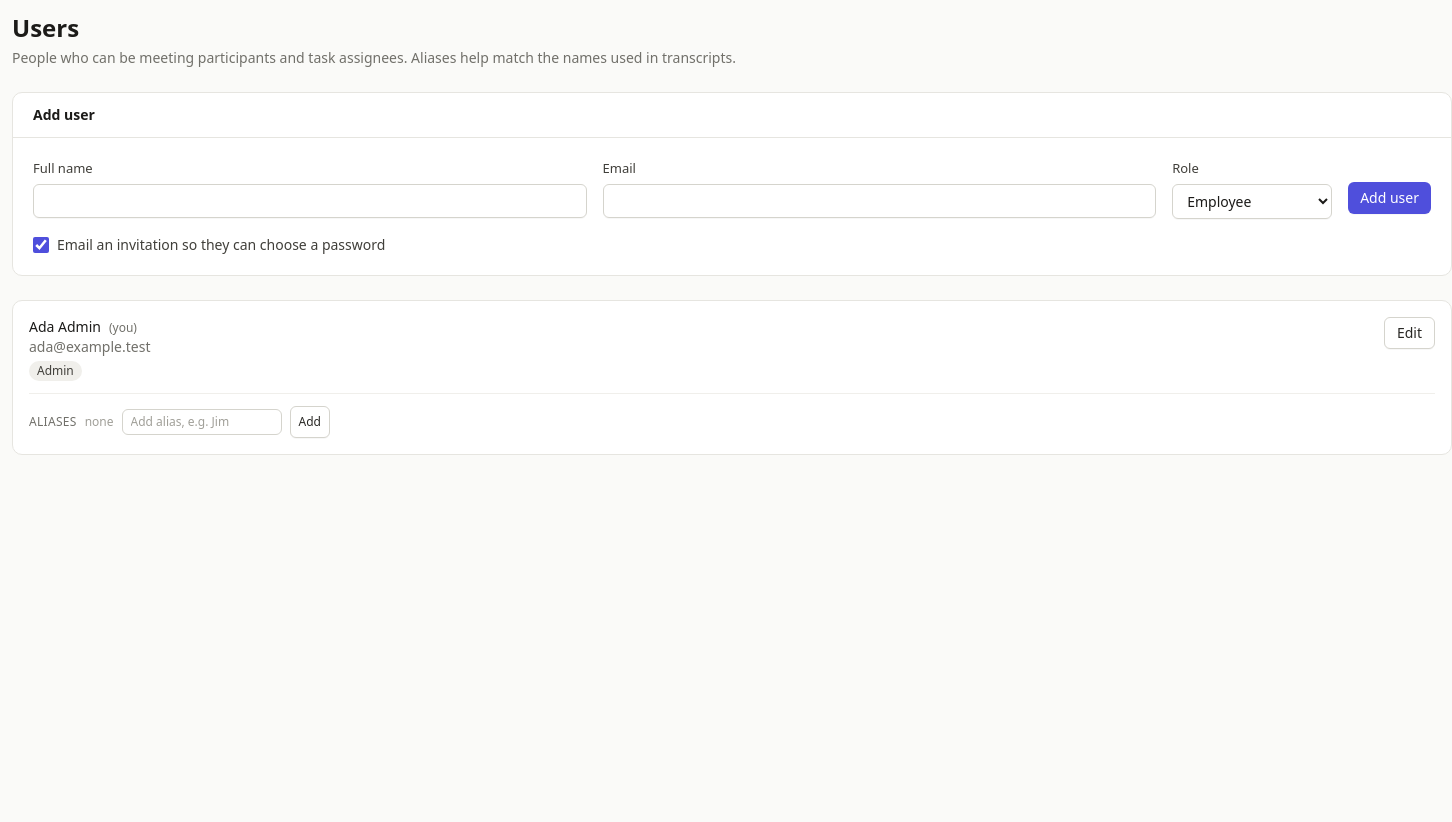
Test: Users page — invitations › creates an employee and emails an invitation in one step
The width and height of the screenshot is (1452, 822).
expect the text "Ada Admin" is shown: met, box left=29, top=317, right=101, bottom=336
Step 1. Type "Ivy Invitee" into the field labelled "Full name" → (310, 201), box left=33, top=184, right=587, bottom=218
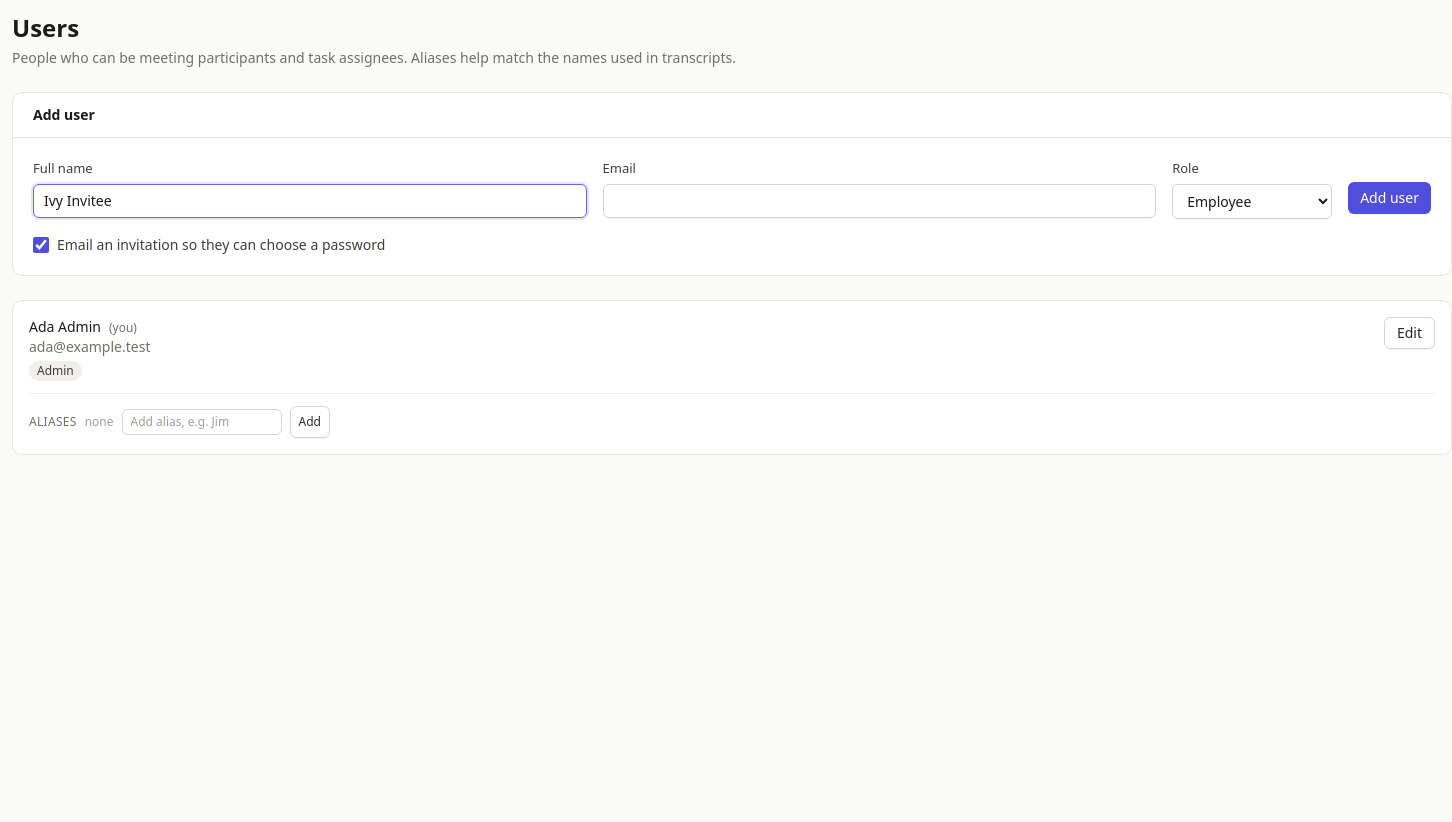
Step 2. Type "ivy@example.test" into the field labelled "Email" → (879, 201), box left=603, top=184, right=1156, bottom=218
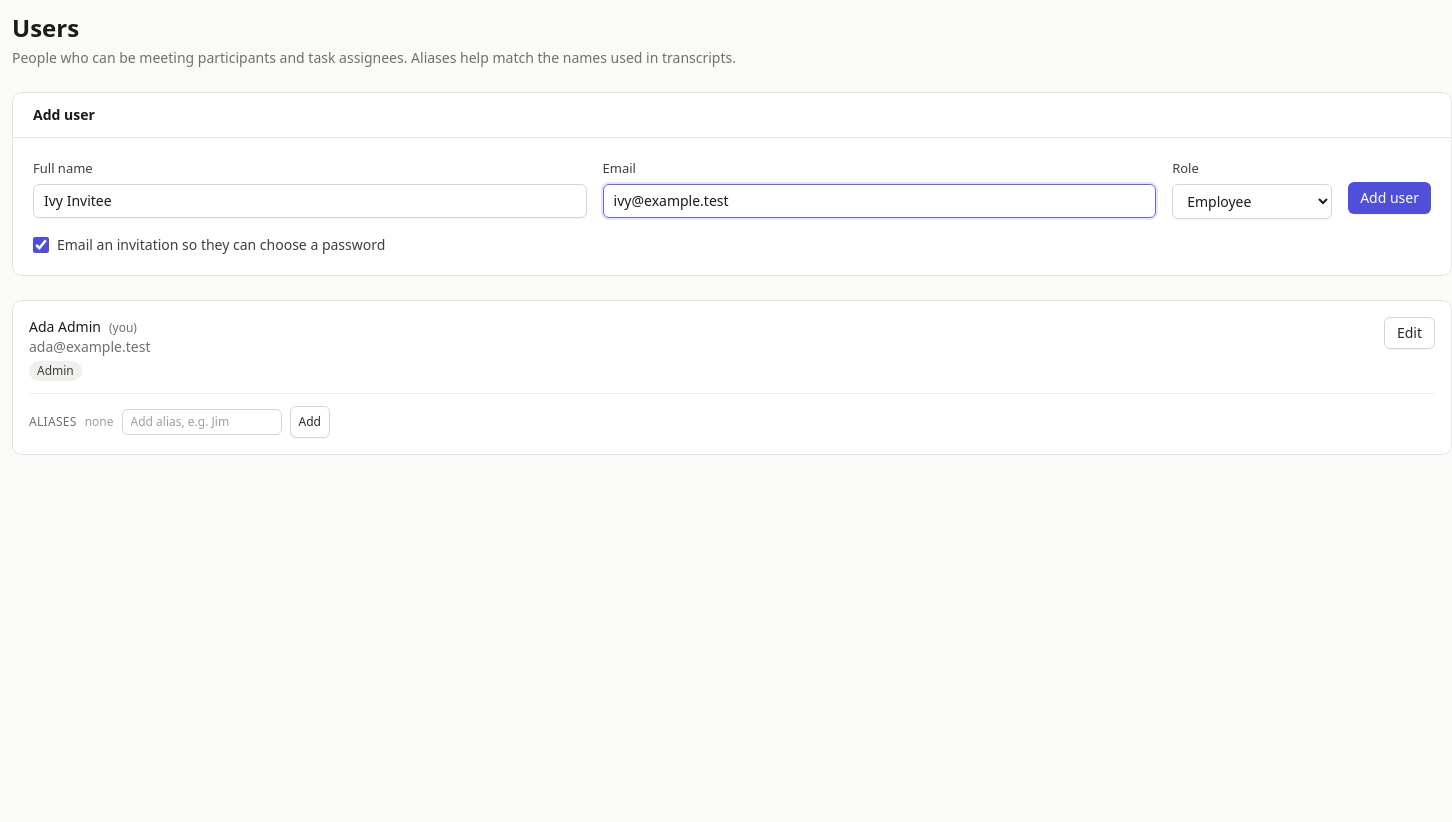
Step 3. Select "Manager" in the dropdown labelled "Role" → (1252, 202), box left=1172, top=184, right=1332, bottom=219
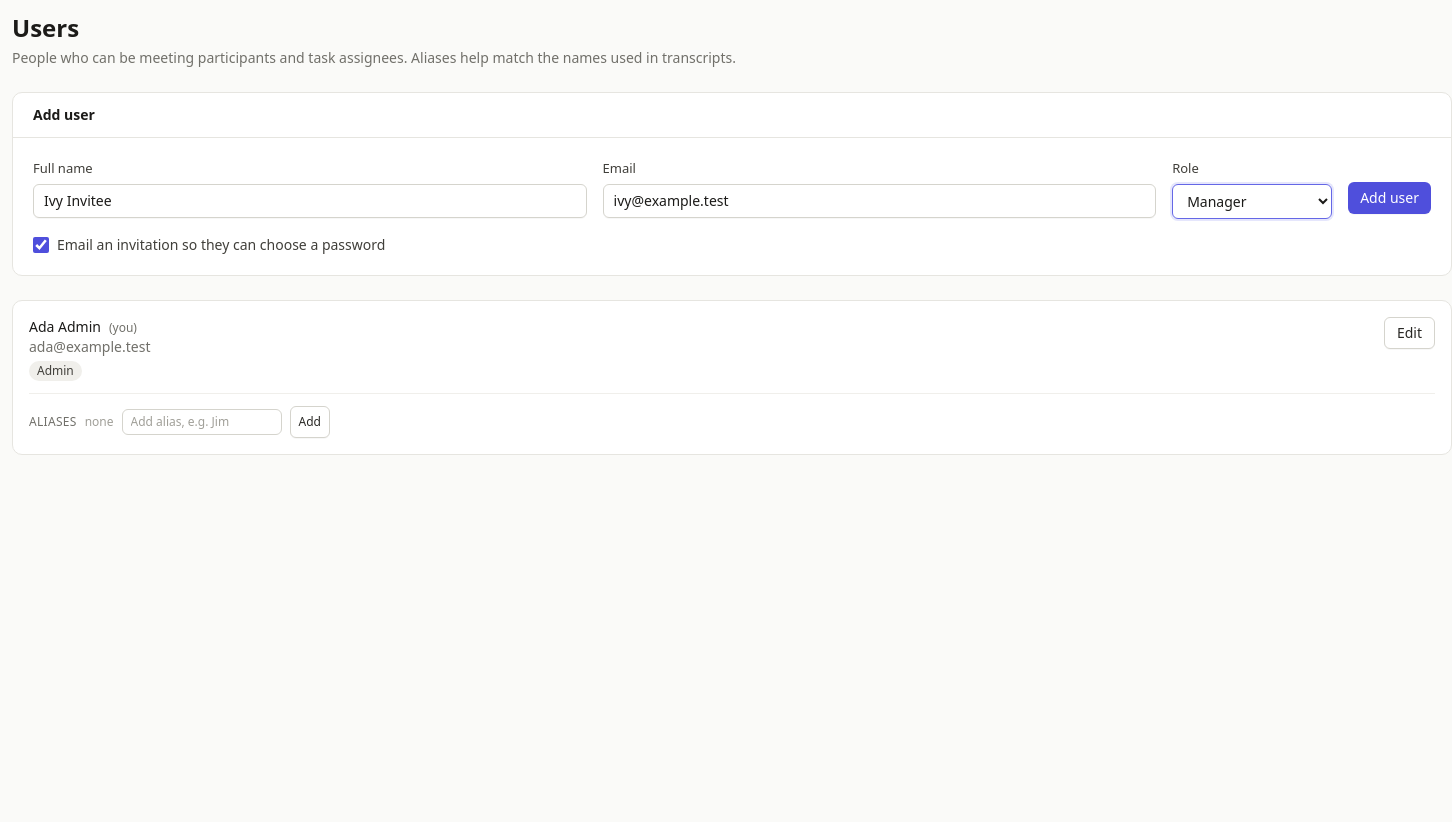
Step 4. Click the button "Add user" → (1390, 198), box left=1348, top=182, right=1431, bottom=214
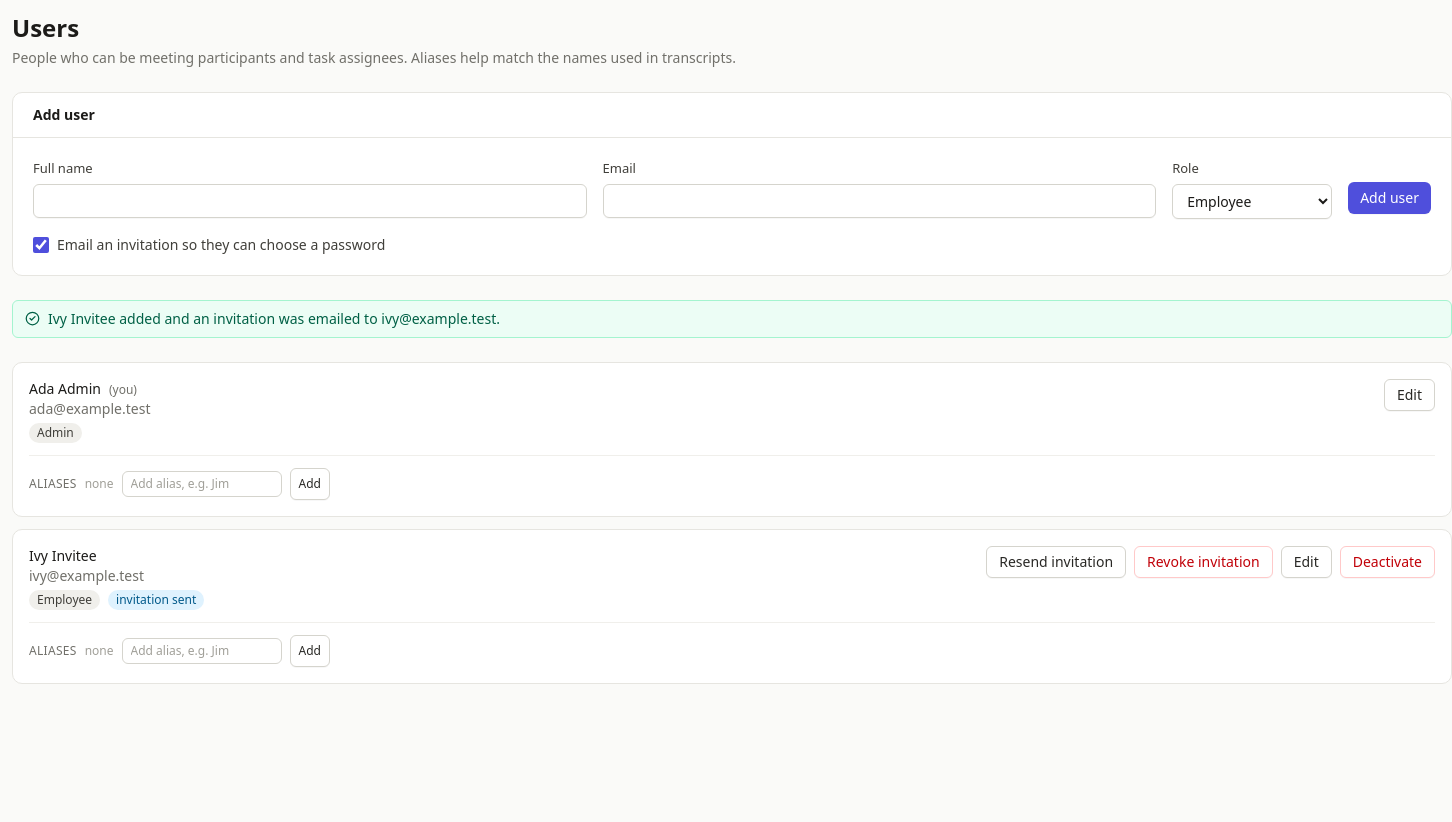
expect the text "Ivy Invitee added and an invitation was emailed to ivy@example.test." is shown: met, box left=48, top=309, right=500, bottom=328
expect the text "invitation sent" is shown: met, box left=108, top=590, right=204, bottom=610
